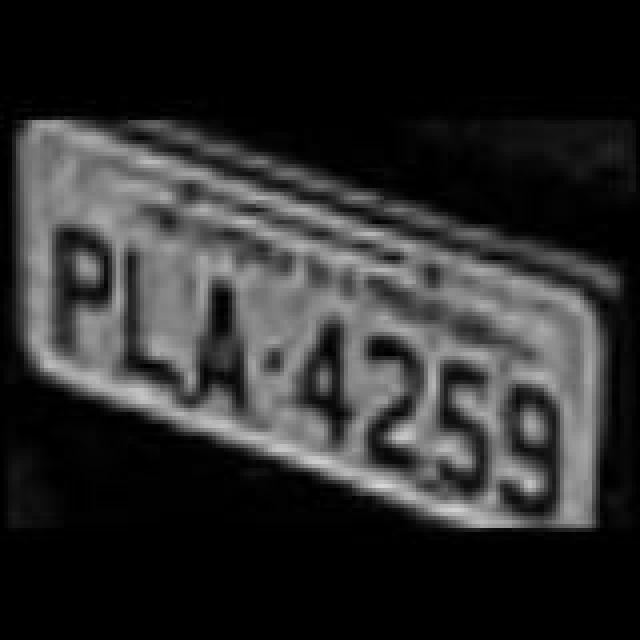2: (354, 326, 434, 470)
4: (280, 310, 364, 458)
5: (424, 348, 496, 492)
9: (486, 376, 562, 520)
A: (174, 262, 258, 418)
L: (104, 234, 184, 386)
P: (40, 212, 116, 364)
